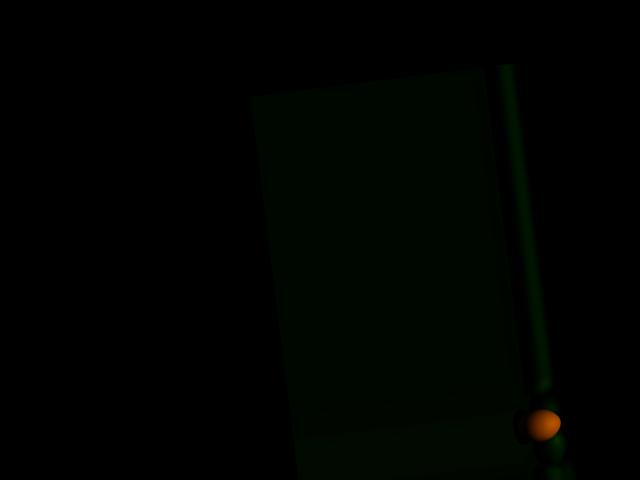egg: (515, 406, 562, 444)
